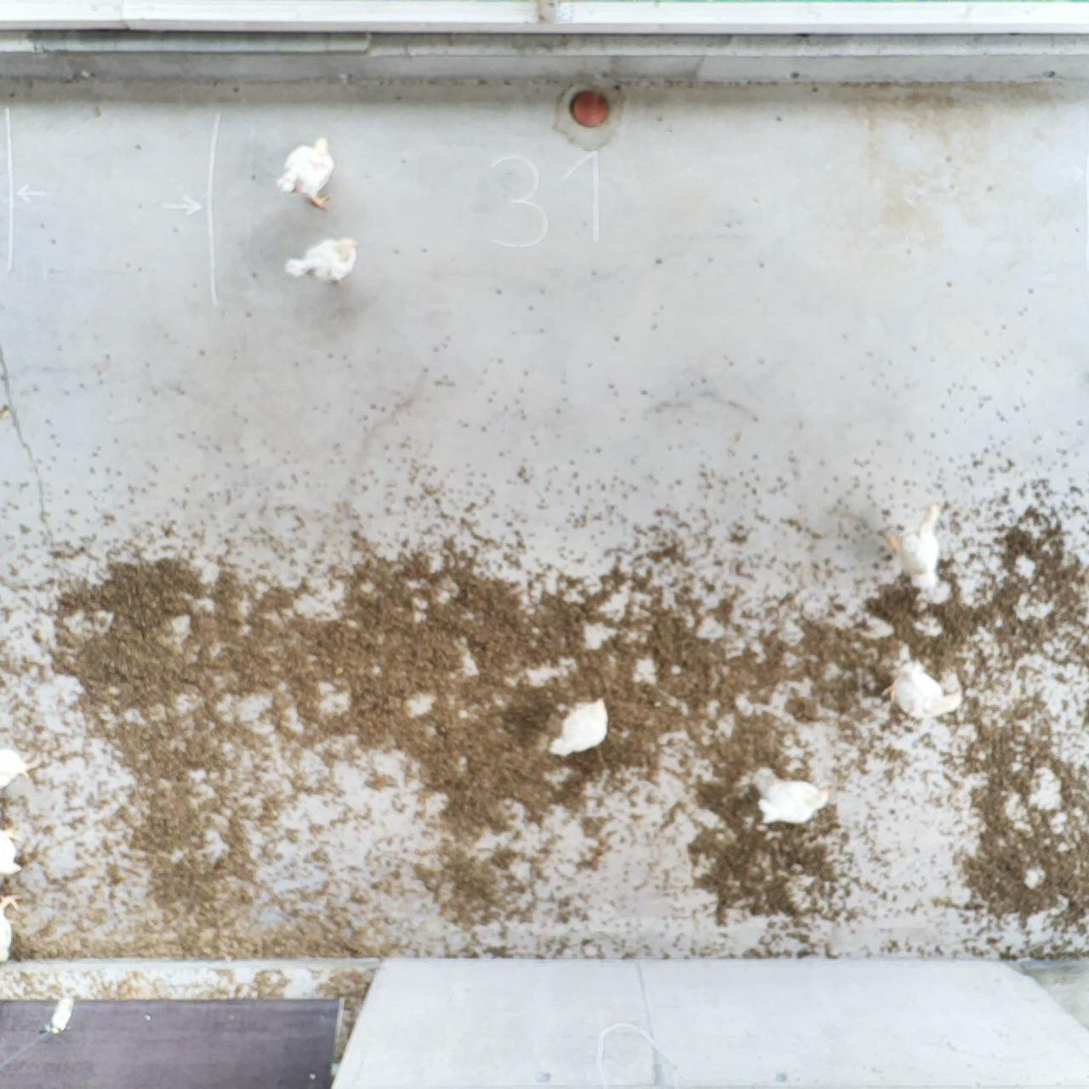chicken: (884, 497, 948, 591), (876, 657, 965, 723), (275, 133, 340, 214), (755, 770, 834, 827), (283, 233, 362, 289), (547, 696, 612, 759), (0, 741, 38, 795), (0, 892, 26, 965), (0, 828, 20, 879)
